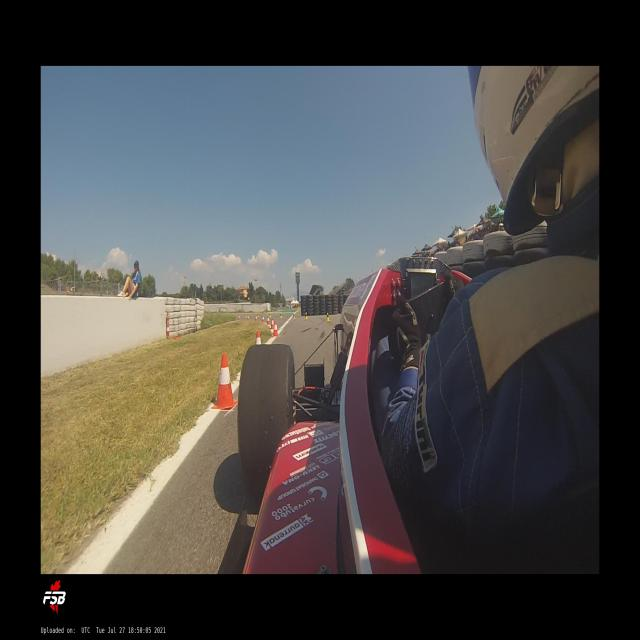orange_cone: (211, 353, 237, 409), (255, 331, 261, 344), (273, 321, 278, 336), (271, 318, 274, 329), (266, 316, 270, 324), (255, 315, 258, 321), (262, 316, 264, 322), (238, 314, 240, 320), (248, 315, 249, 320)
yellow_cone: (326, 312, 330, 321), (305, 311, 308, 320), (292, 313, 296, 319), (256, 313, 259, 318), (280, 312, 282, 319), (269, 313, 271, 318), (245, 314, 247, 318)
